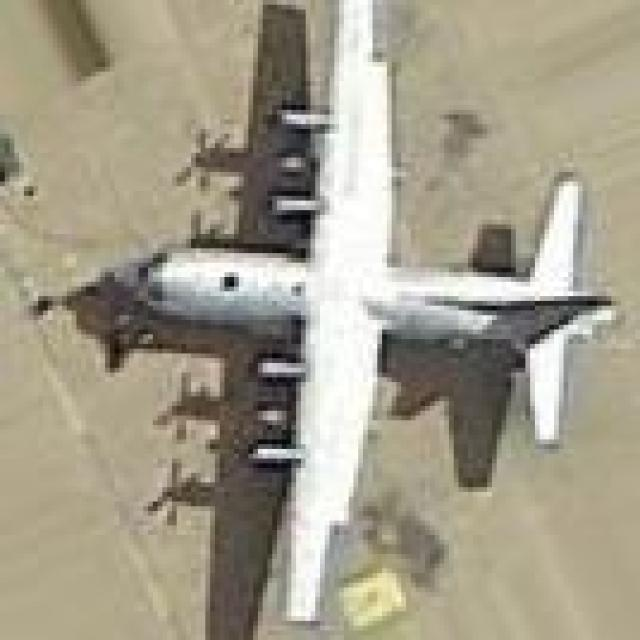C-130_TopDown: (56, 0, 622, 640)
